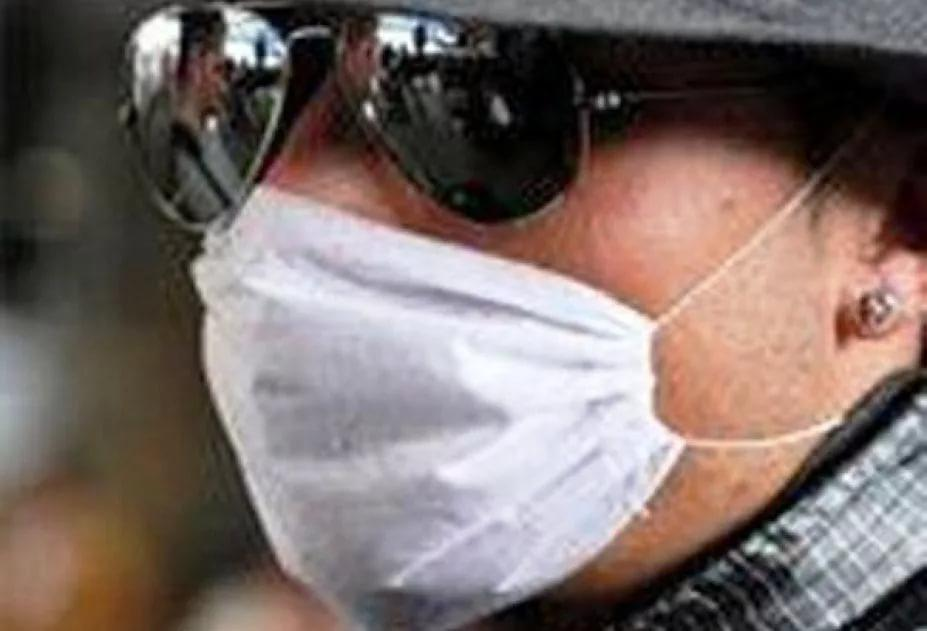mask: (167, 2, 691, 624)
